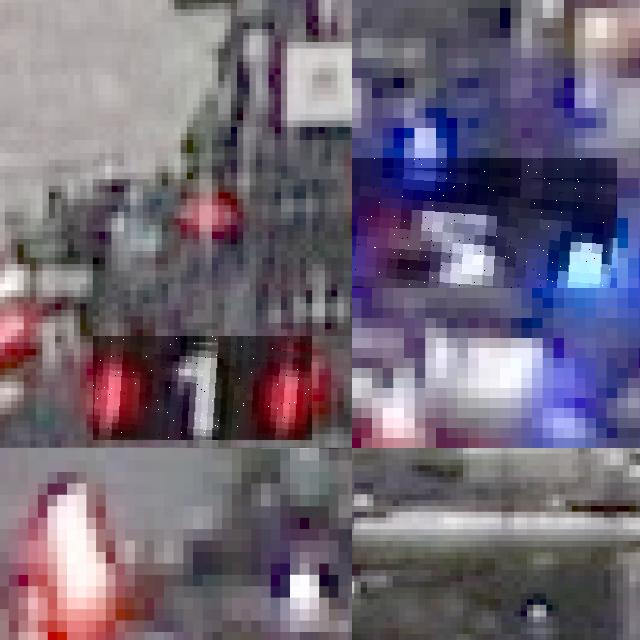B5: (352, 158, 617, 288)
R1: (93, 336, 312, 440)
